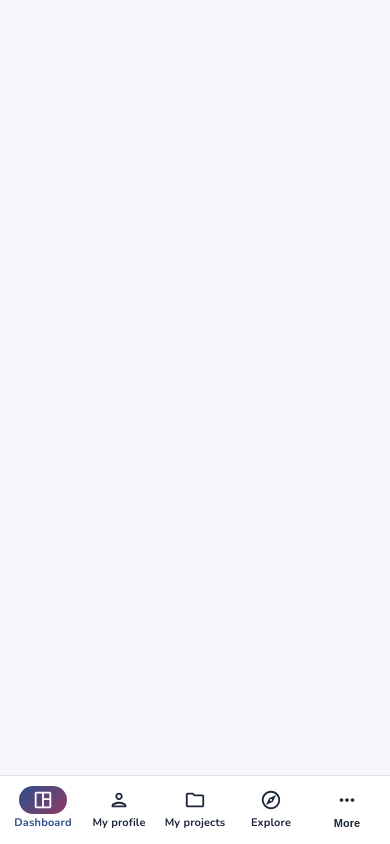
Test: PhoneNavigation › More opens a sheet with the rest and a working logout
Step 1. Click the button "More" → x=347, y=810, box top-left (310, 782), bottom-right (384, 838)
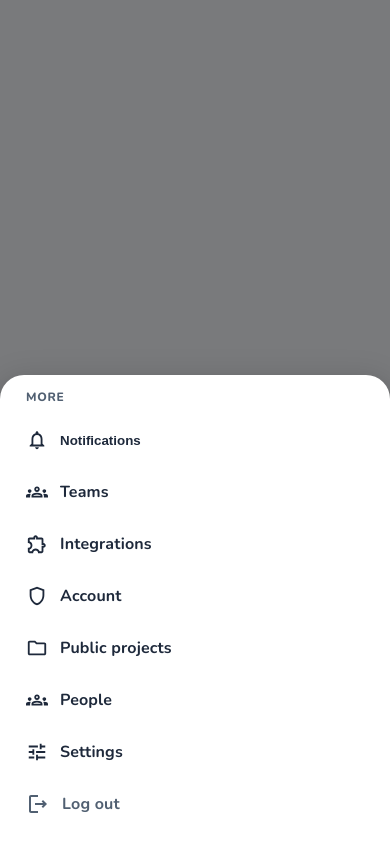
Result: the link "Integrations" is shown at top-left (26, 533), bottom-right (152, 555)
Result: the link "Settings" is shown at top-left (26, 741), bottom-right (123, 763)
